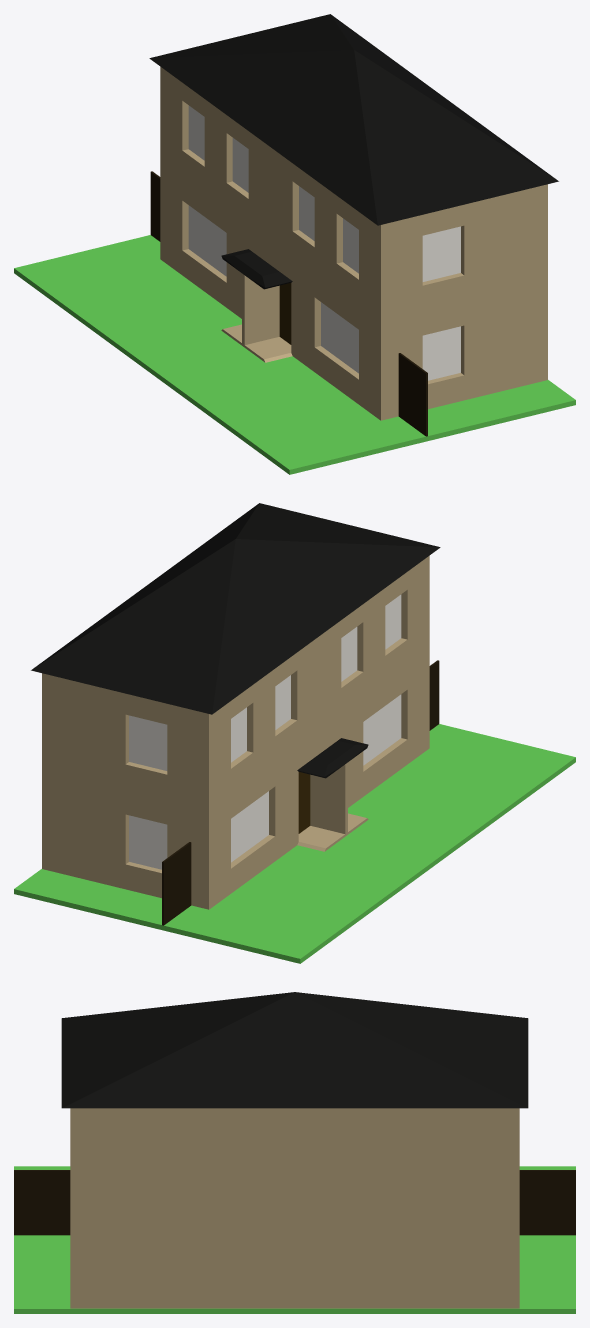
Rendered from House.fbx.
The picture shows the model from 3 angles, top to bottom: view 1: azimuth 30°, elevation 25°; view 2: azimuth 150°, elevation 25°; view 3: azimuth 270°, elevation 25°; orthographic projection.
Visible parts, largest first — view 1: Box002; view 2: Box002; view 3: Box002.
Boxes of the visible parts, box(x1,y1,x2,y2) form: Box002: box(14, 14, 575, 474); Box002: box(14, 503, 575, 963); Box002: box(14, 992, 575, 1313).
Bounding box in the file's own units: 307 × 275 × 500.
